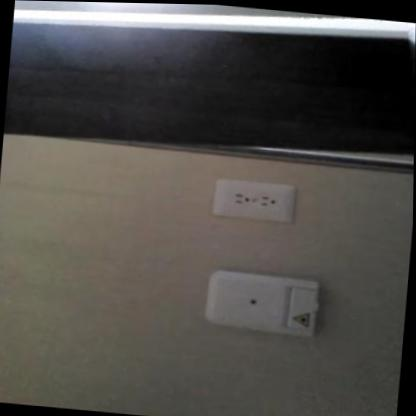OUTLET: (210, 177, 296, 225)
